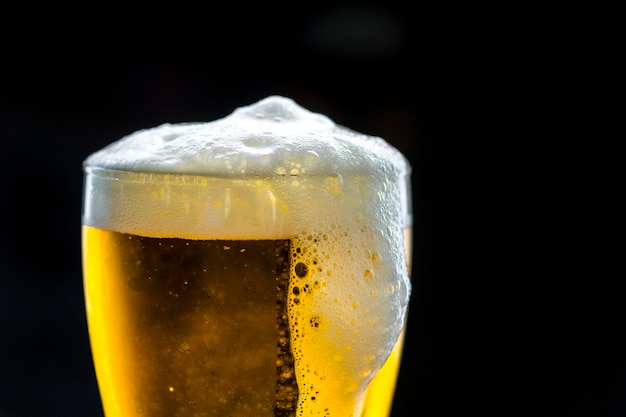alcohol: (77, 95, 416, 417)
